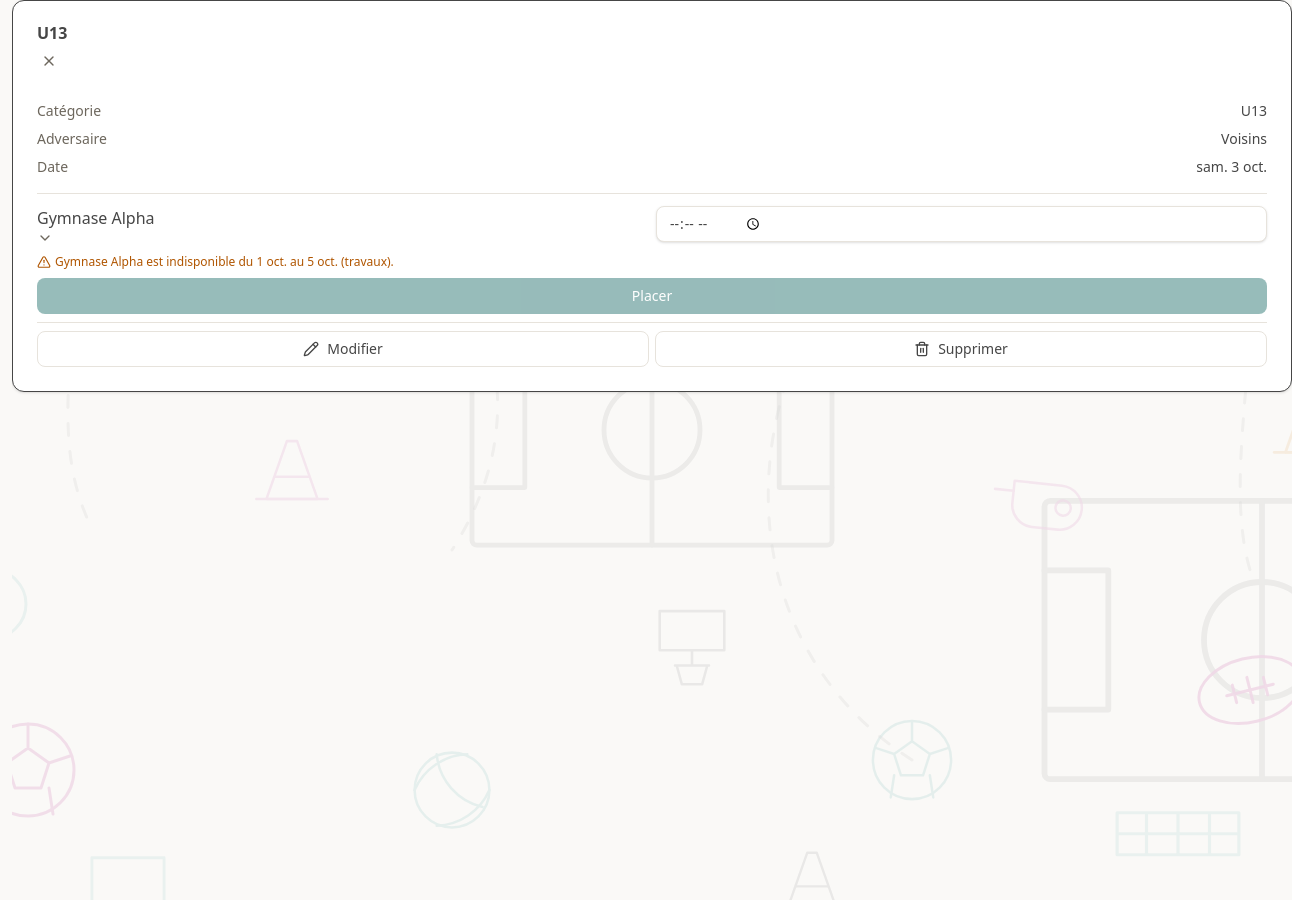
Test case: PlacementPanel — gymnase fermé ou indisponible grisé (P4-300) › grise aussi un gymnase indisponible à la date du match
This screenshot has width=1292, height=900.
Step 1. Click the button "Gymnase Alpha" → (96, 226), box [37,206,154,246]
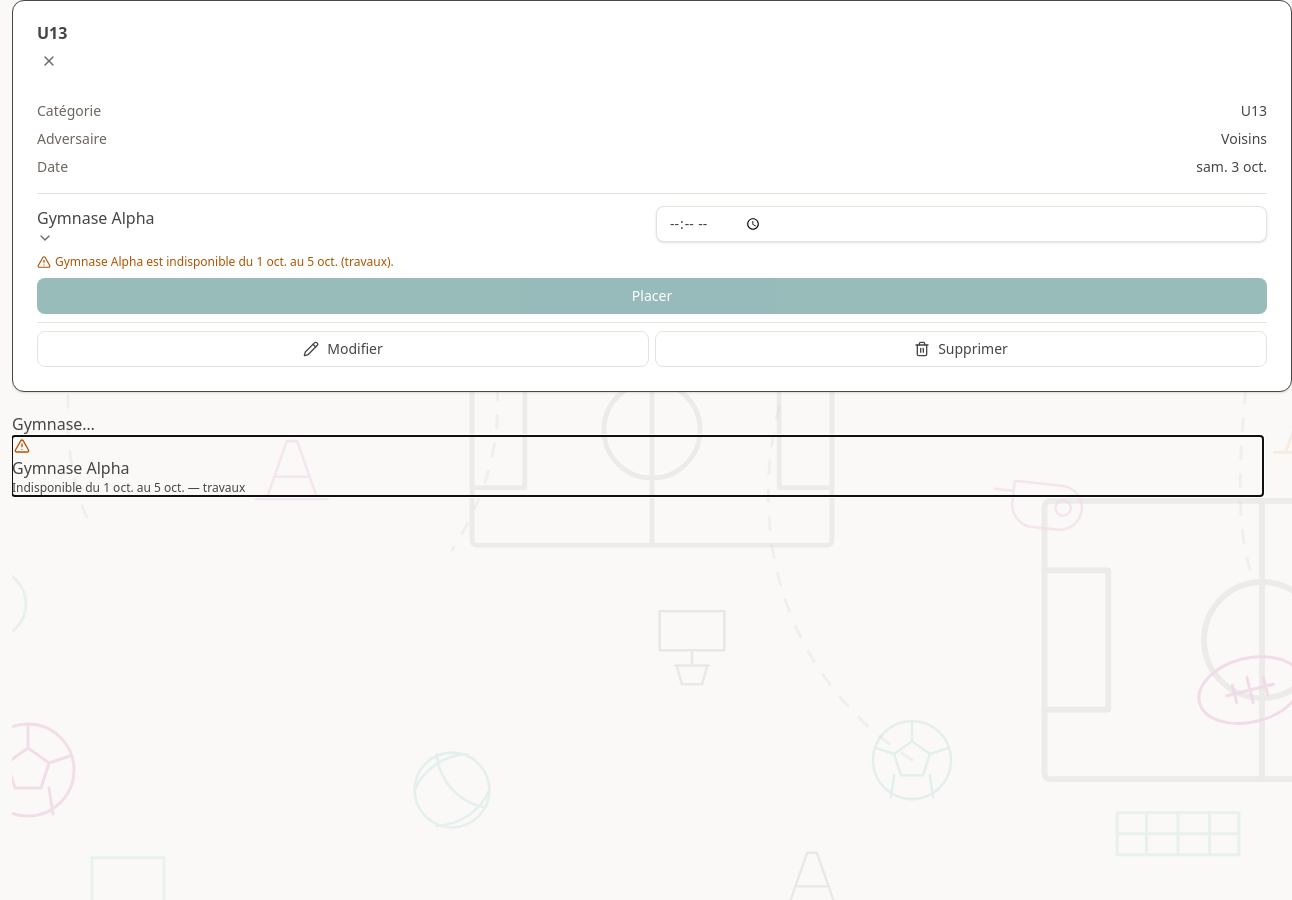
Check: the text "Indisponible du 1 oct. au 5 oct. — travaux" is shown, box [12,479,245,496]
